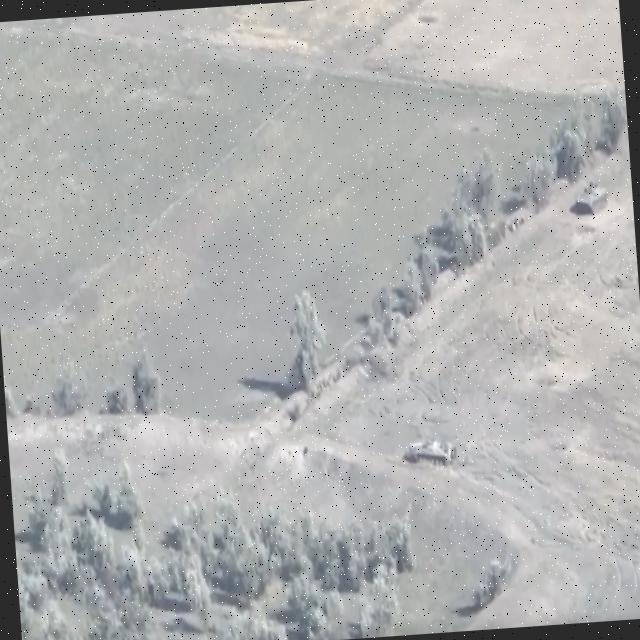AIFV: (407, 432, 458, 480), (573, 178, 612, 220)
